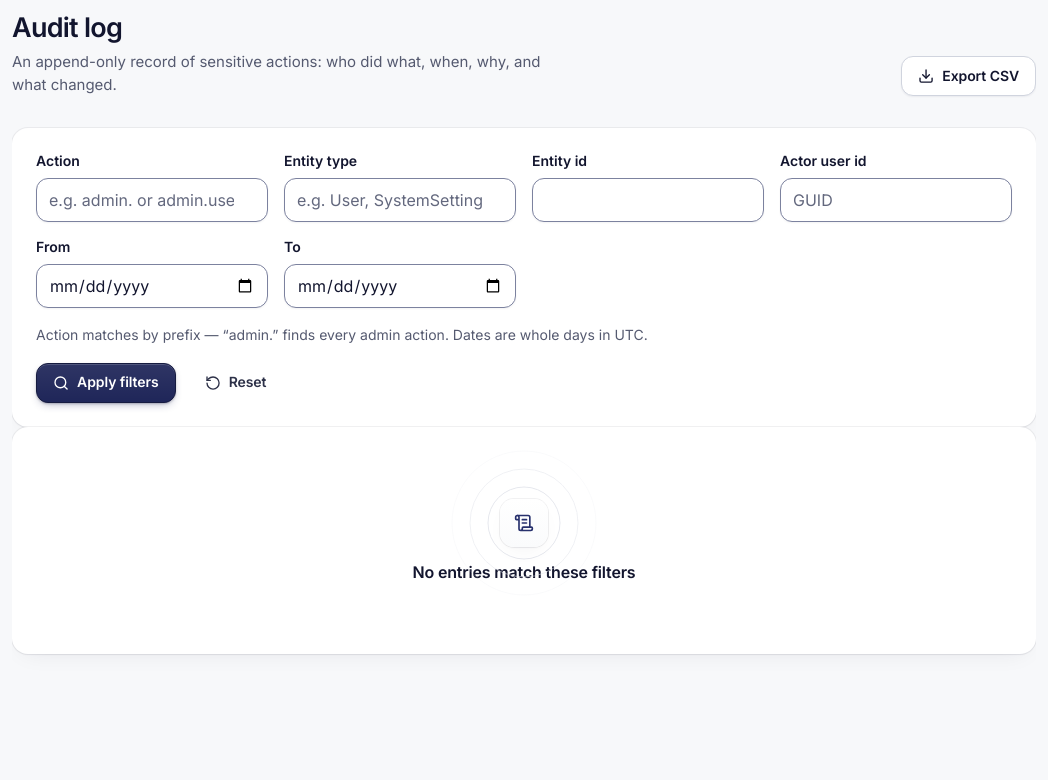
Scenario: Audit log page › validates the actor id and date range before searching
This screenshot has width=1048, height=780.
Check: the heading "No entries match these filters" is shown, box [412,563,635,582]
Type "not-a-guid" into the field labelled "Actor user id" at [896, 200], box [780,178,1012,222]
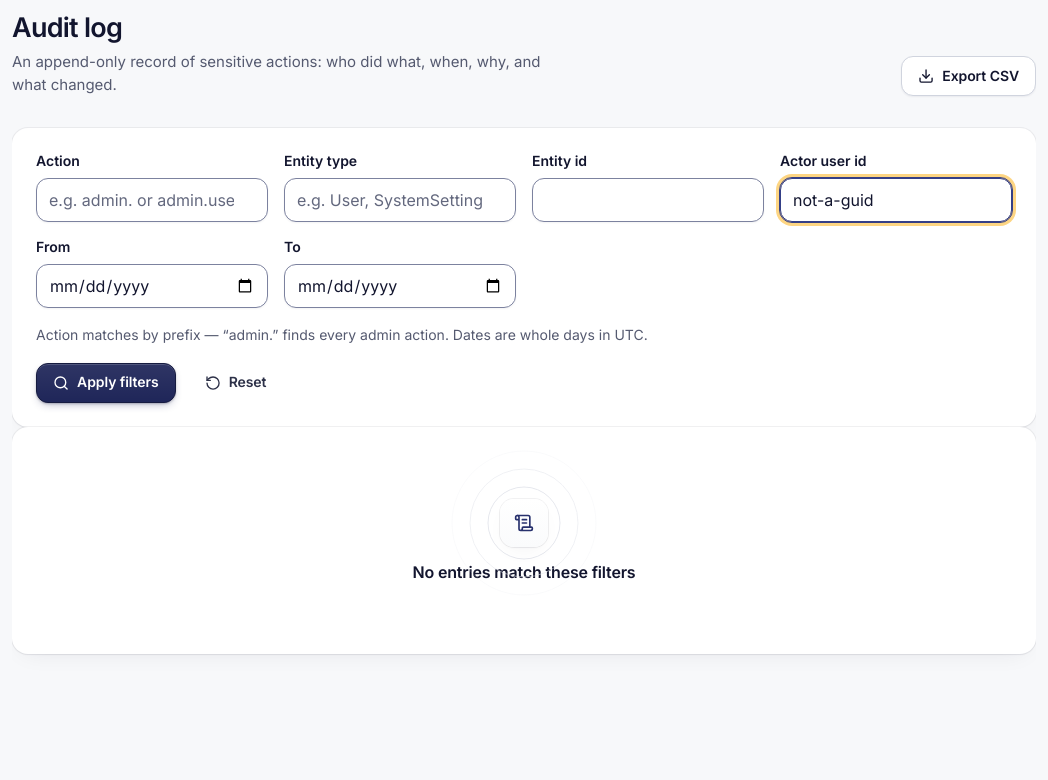
Click the button "Apply filters" at [106, 383], box [36,363,176,403]
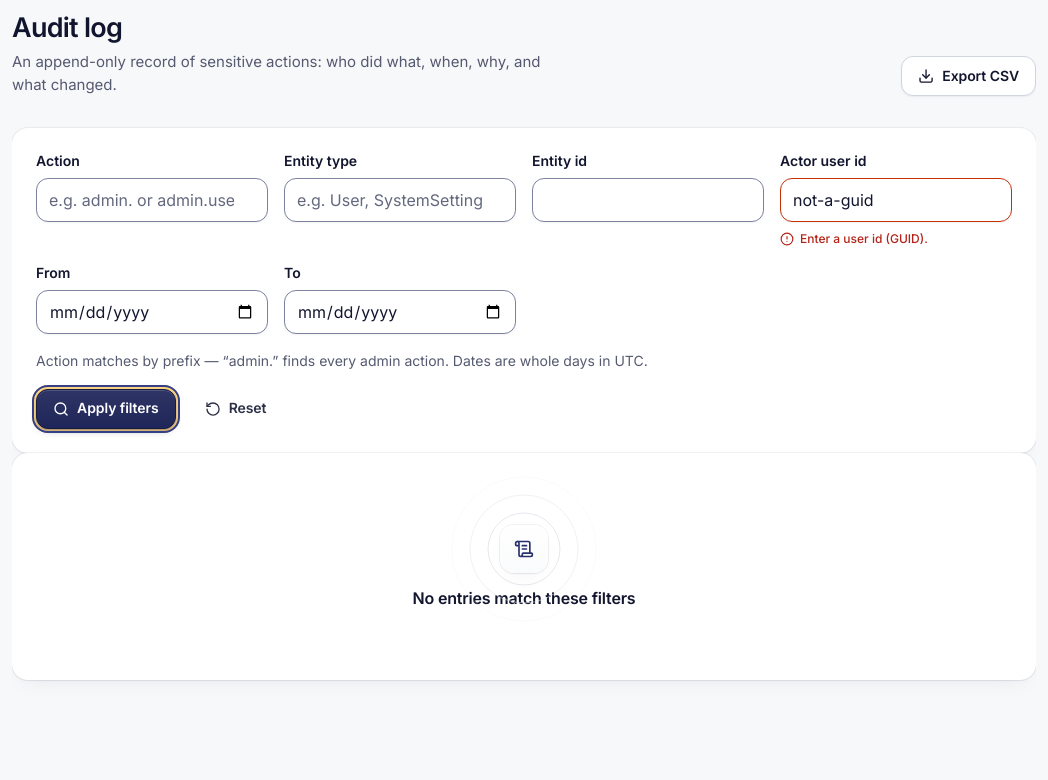
Check: the field labelled "Actor user id" is marked as invalid, box [780,178,1012,222]
